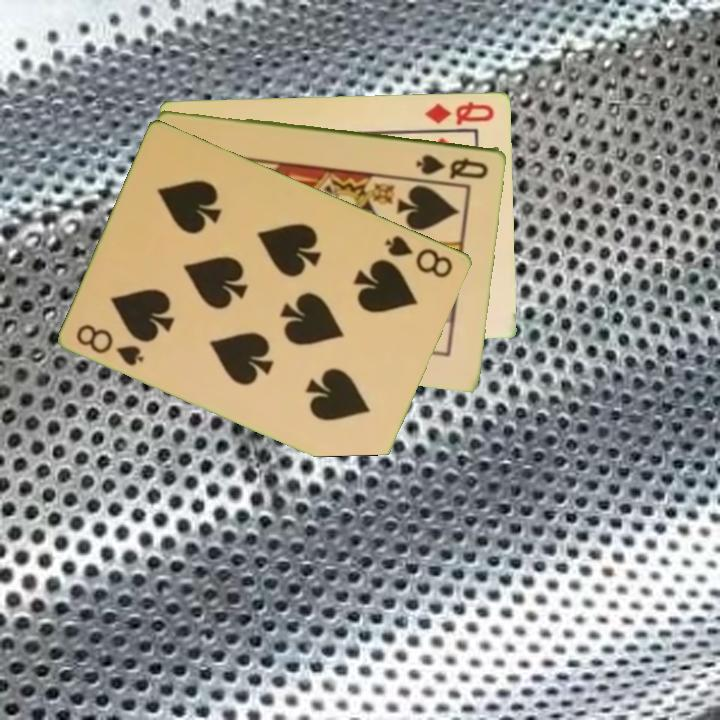8s: (382, 231, 457, 281), (73, 320, 148, 369)
Qd: (421, 98, 497, 127)
Qs: (413, 151, 491, 182)
